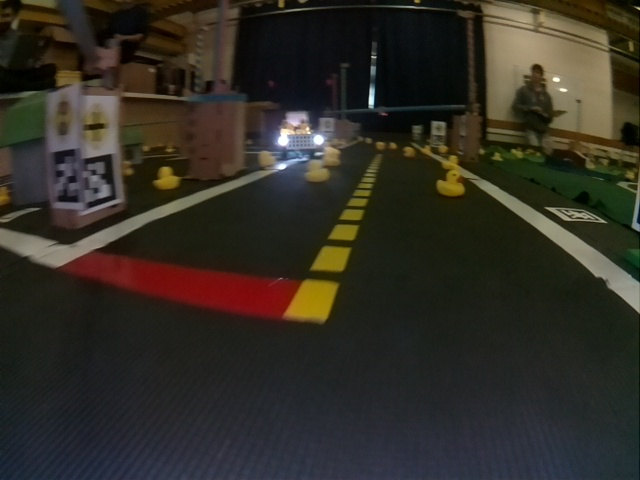Duckie: (437, 171, 465, 197), (153, 167, 180, 190), (308, 161, 327, 182), (259, 152, 273, 166), (442, 156, 458, 168), (404, 147, 413, 156), (376, 142, 383, 149)
Duckiebot: (280, 129, 322, 158)
Intersection sign: (82, 96, 115, 151)
QR code: (84, 155, 120, 205), (47, 149, 79, 204), (547, 206, 604, 222)
Signal sign: (50, 94, 77, 144)
